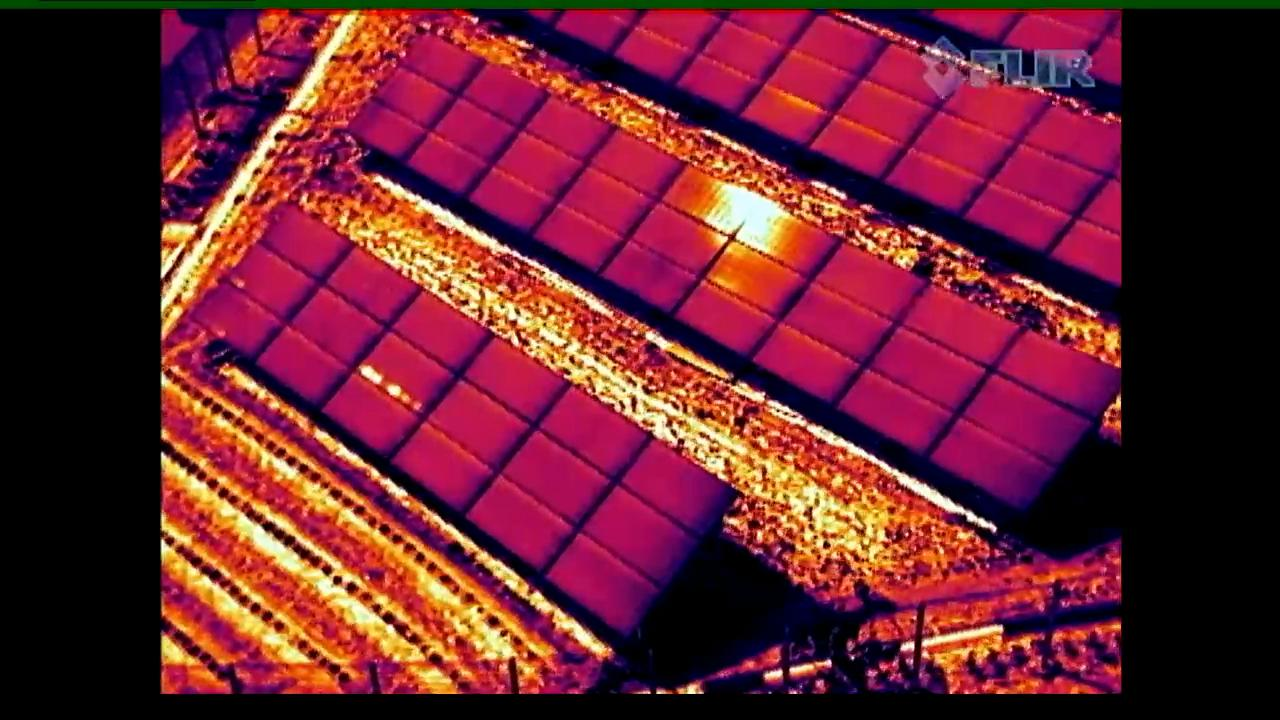hotspot: (309, 289, 499, 468)
